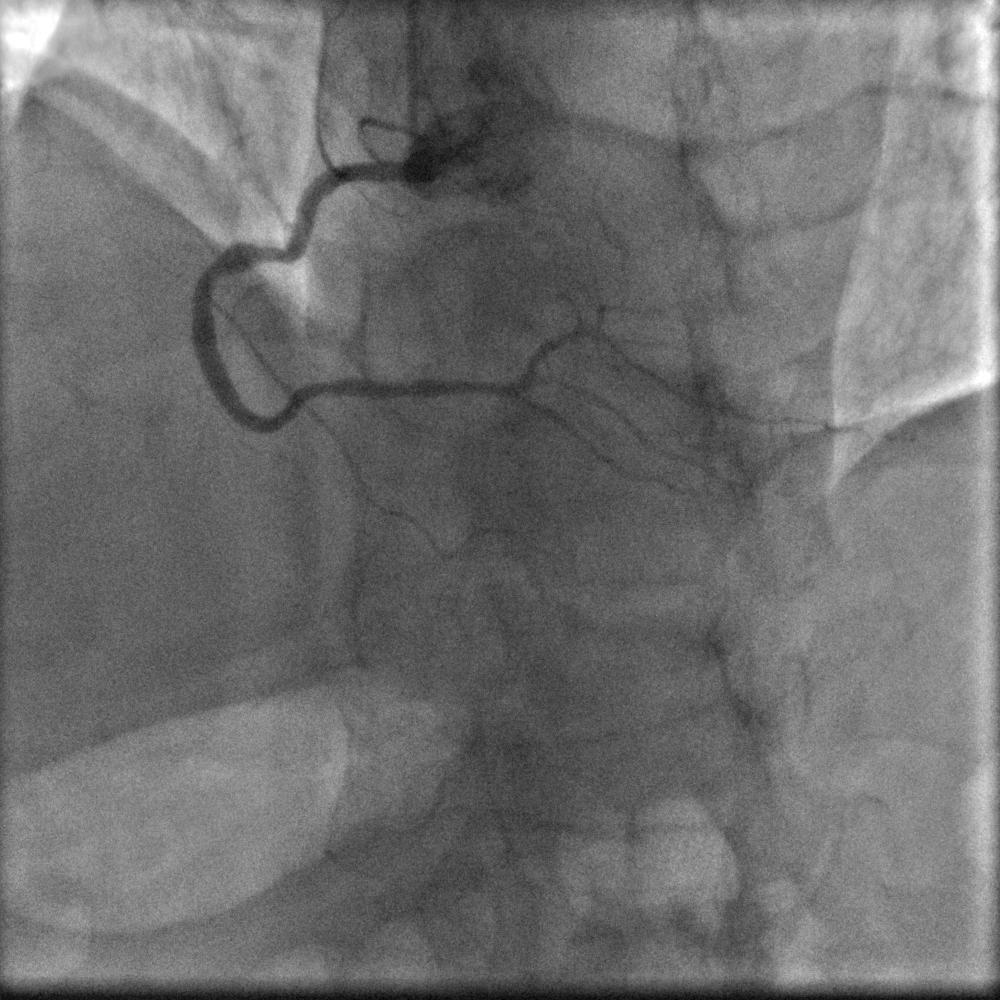Stenosis: (202, 255, 226, 283)
